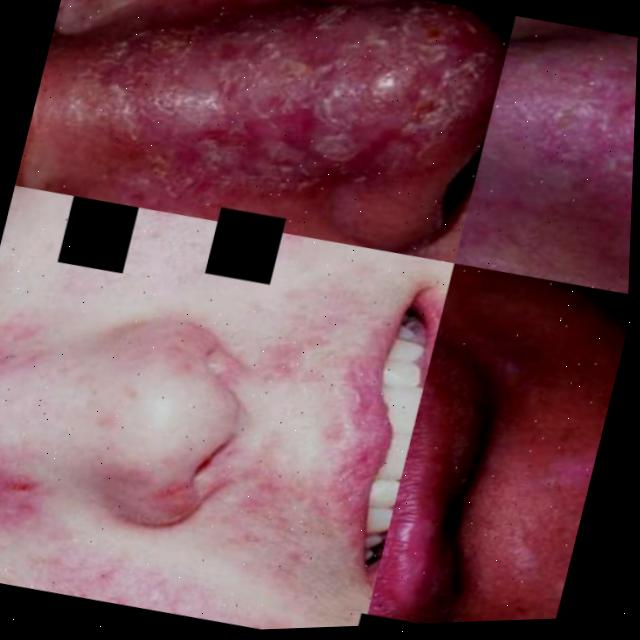lupus-detected: (34, 0, 516, 278), (0, 395, 401, 640), (0, 205, 245, 577), (0, 169, 457, 360), (360, 259, 561, 626), (465, 10, 639, 247), (452, 182, 632, 302)
